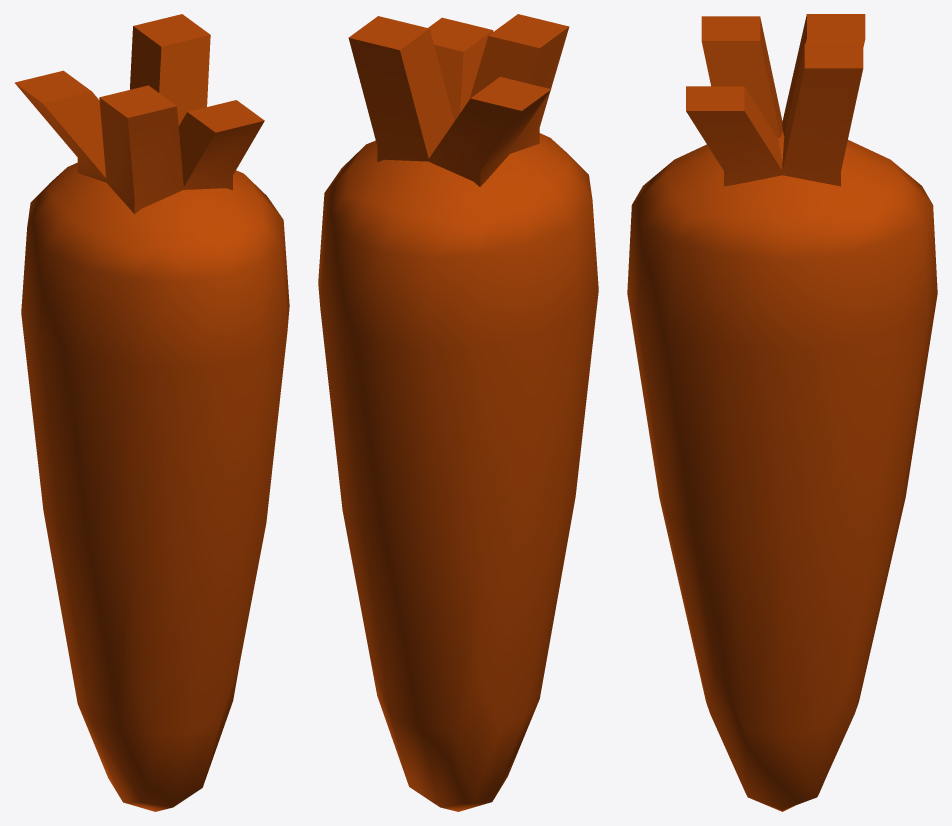
The model's file is carrot.fbx.
The picture shows the model from 3 angles, left to right: view 1: azimuth 30°, elevation 25°; view 2: azimuth 150°, elevation 25°; view 3: azimuth 270°, elevation 25°; orthographic projection. The views are drawn at different scales.
Visible parts, largest first — view 1: pCube1, pCube2; view 2: pCube1, pCube2; view 3: pCube1, pCube2.
Part boxes in pixels (x1,y1,x2,y2): pCube1: (21,162,289,811); pCube2: (15,14,264,214); pCube1: (318,133,598,811); pCube2: (348,14,569,186); pCube1: (627,129,937,811); pCube2: (686,14,865,186).
Size of the model in its own units: 49.9 by 155 by 56.31.
